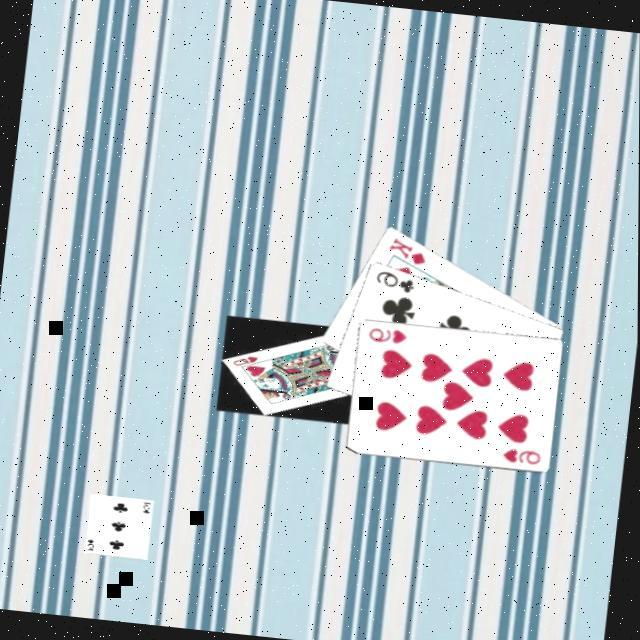6C: (370, 267, 416, 297)
9H: (362, 323, 408, 347), (496, 445, 542, 468)
KD: (382, 234, 429, 268)
